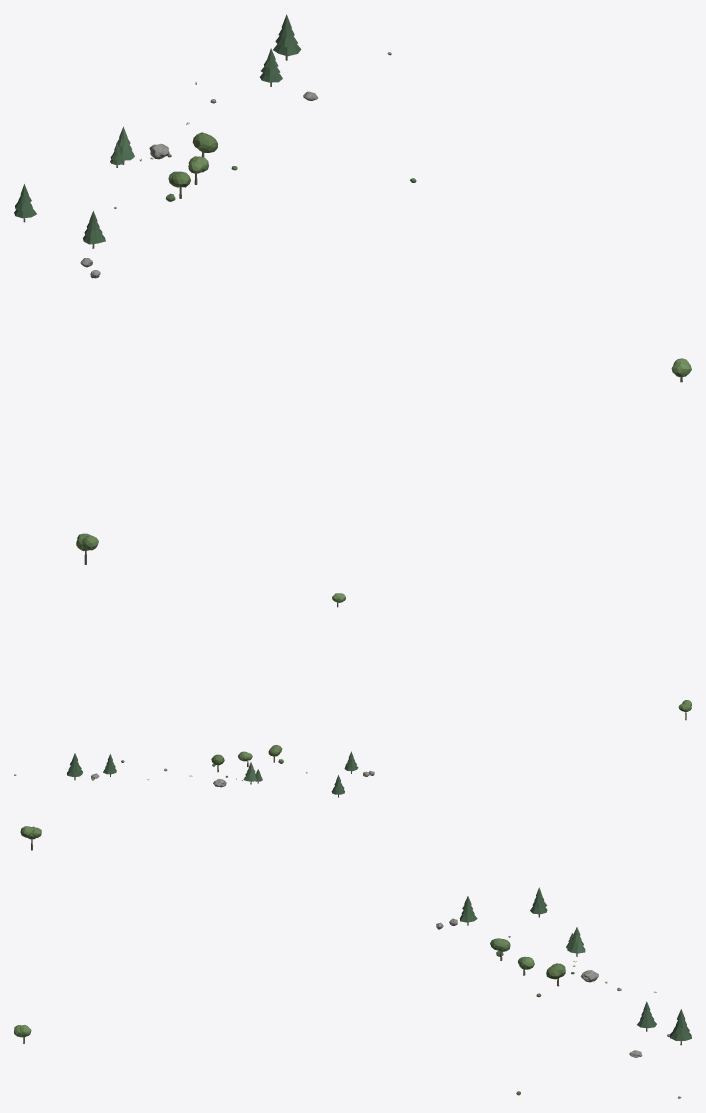
Rendered from arch_land_scatter_c19_19.glb.
3 views of the same model, one above another, from view 1: azimuth 30°, elevation 25°; view 2: azimuth 150°, elevation 25°; view 3: azimuth 270°, elevation 25° (orthographic). The views are drawn at different scales.
Parts seen in each view (by area): view 1: arch_land_scatter_c19_19; view 2: arch_land_scatter_c19_19; view 3: arch_land_scatter_c19_19.
Part boxes in pixels (box(x1,y1,x2,y2)): arch_land_scatter_c19_19: box(14, 14, 691, 564); arch_land_scatter_c19_19: box(14, 593, 691, 797); arch_land_scatter_c19_19: box(14, 826, 691, 1098).
Bounding box in the file's own units: 246 × 31.86 × 253.
